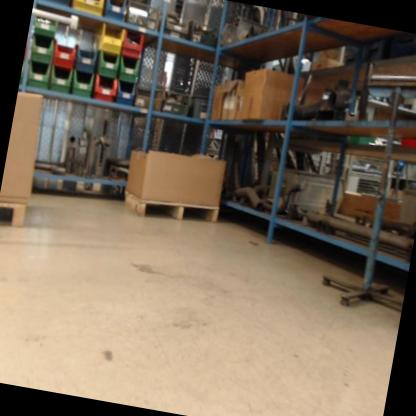pallet: (119, 189, 219, 230), (0, 197, 30, 232)
stillage: (318, 153, 385, 199)
